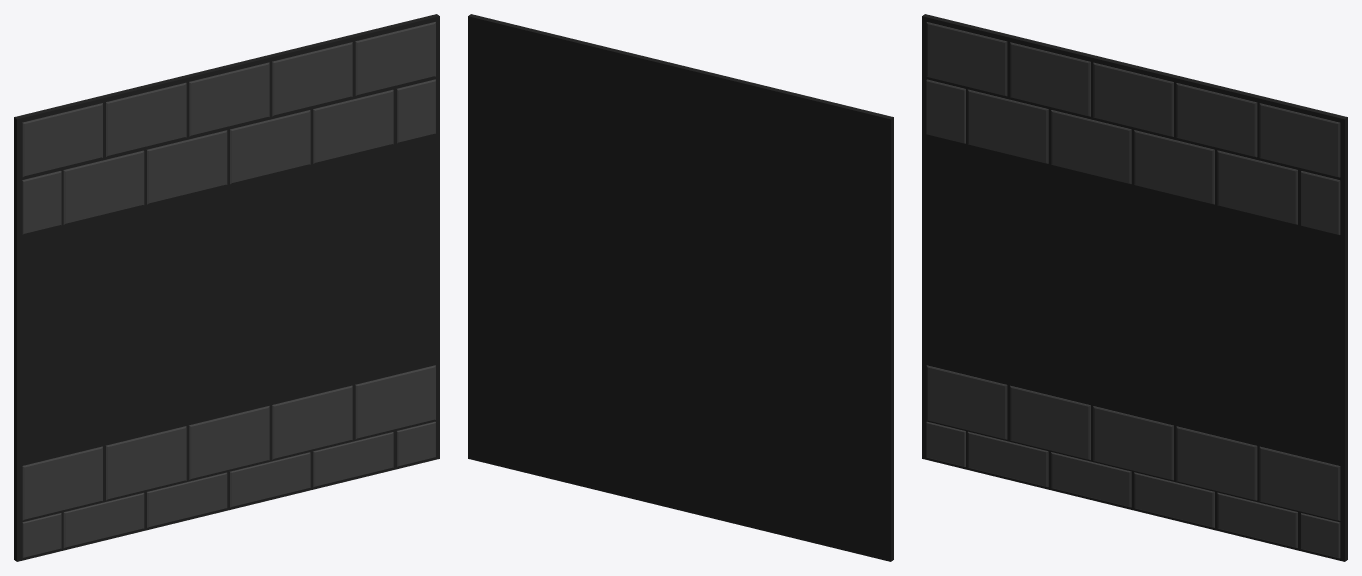
Rendered from Wall_2.fbx.
3 views of the same model, side by side, from view 1: azimuth 30°, elevation 25°; view 2: azimuth 150°, elevation 25°; view 3: azimuth 330°, elevation 25° (orthographic).
Visible parts, largest first — view 1: Plane.001; view 2: Plane.001; view 3: Plane.001.
Boxes of the visible parts, <box> form: Plane.001: <box>14,14,439,561</box>; Plane.001: <box>468,14,893,561</box>; Plane.001: <box>922,14,1347,561</box>.
Size of the model in its own units: 400 by 400 by 6.41.
Materials: 1 (1 with a texture image).
